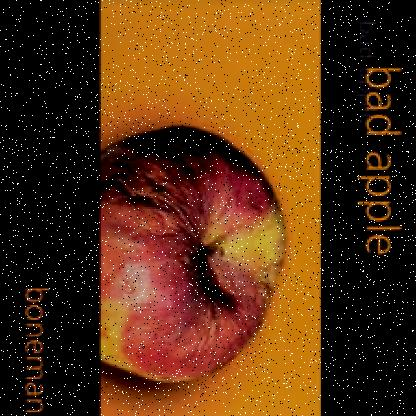damaged_apple: (92, 118, 290, 376)
